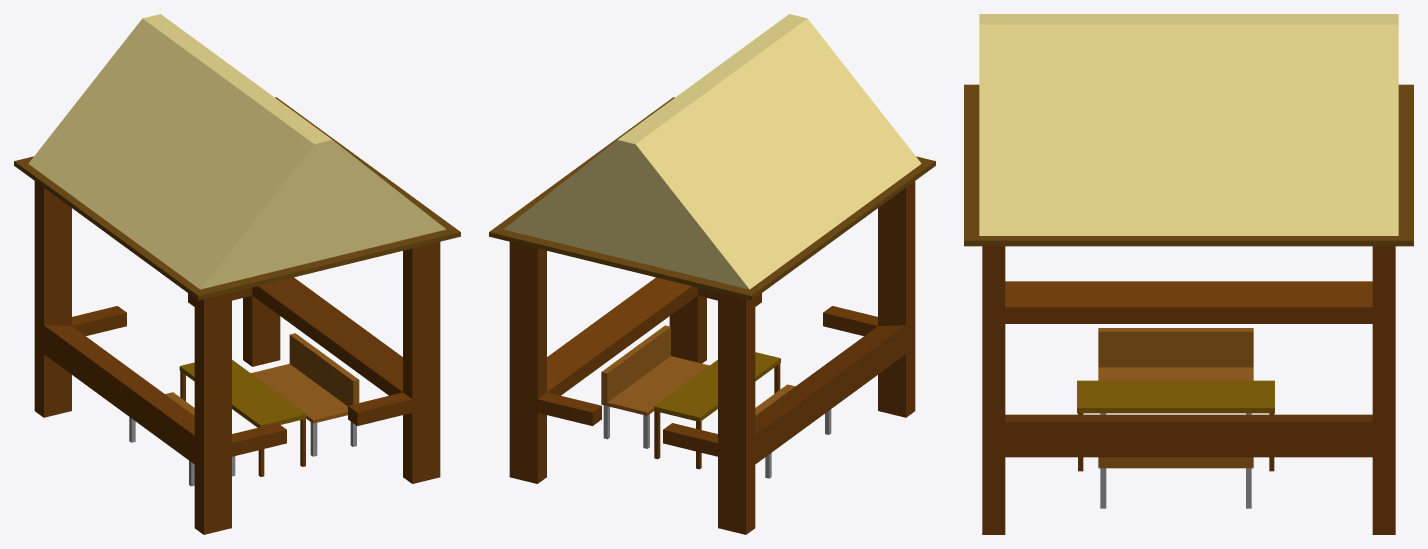
The model's file is pergola.fbx.
The picture shows the model from 3 angles, left to right: view 1: azimuth 30°, elevation 25°; view 2: azimuth 150°, elevation 25°; view 3: azimuth 270°, elevation 25°; orthographic projection. The views are drawn at different scales.
Parts seen in each view (by area): view 1: pergola; view 2: pergola; view 3: pergola.
Part boxes in pixels (left/top/right/bottom): pergola: left=14, top=14, right=460, bottom=534; pergola: left=489, top=14, right=935, bottom=534; pergola: left=964, top=14, right=1413, bottom=534.
Bounding box in the file's own units: 1138 × 1513 × 1385.
